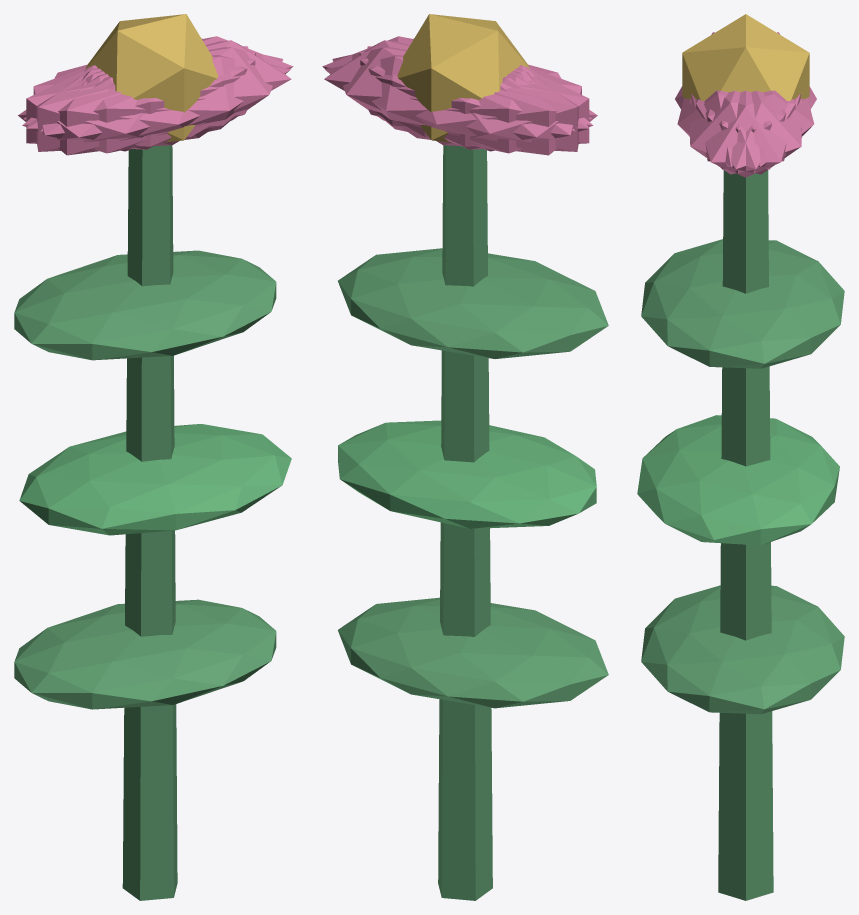
Rendered from odontonema-tubaeforme.glb.
3 views of the same model, side by side, from view 1: azimuth 30°, elevation 25°; view 2: azimuth 150°, elevation 25°; view 3: azimuth 270°, elevation 25° (orthographic).
Parts seen in each view (by area): view 1: stem, leaf1, leaf2, leaf0, center, petal1, petal6, petal2, petal5, petal7, petal0, petal4 (+2 smaller); view 2: stem, leaf2, leaf0, leaf1, center, petal8, petal3, petal7, petal4, petal2, petal0, petal5 (+2 smaller); view 3: stem, leaf2, leaf1, leaf0, center, petal0, petal4, petal5, petal1, petal8.
Boxes of the visible parts, x1=… form: stem: x1=122, y1=145, x2=177, y2=900; leaf1: x1=19, y1=424, x2=291, y2=535; leaf2: x1=14, y1=250, x2=276, y2=360; leaf0: x1=14, y1=599, x2=276, y2=709; center: x1=85, y1=14, x2=217, y2=142; petal1: x1=22, y1=55, x2=290, y2=153; petal6: x1=18, y1=66, x2=212, y2=155; petal2: x1=36, y1=46, x2=248, y2=151; petal5: x1=40, y1=47, x2=283, y2=146; petal7: x1=26, y1=52, x2=255, y2=149; petal0: x1=85, y1=40, x2=291, y2=137; petal4: x1=23, y1=36, x2=293, y2=128; stem: x1=438, y1=145, x2=492, y2=900; leaf2: x1=338, y1=248, x2=608, y2=358; leaf0: x1=338, y1=597, x2=608, y2=708; leaf1: x1=338, y1=420, x2=596, y2=528; center: x1=397, y1=14, x2=529, y2=142; petal8: x1=325, y1=55, x2=593, y2=153; petal3: x1=403, y1=66, x2=597, y2=155; petal7: x1=367, y1=46, x2=578, y2=151; petal4: x1=332, y1=47, x2=575, y2=146; petal2: x1=359, y1=52, x2=589, y2=149; petal0: x1=324, y1=40, x2=530, y2=137; petal5: x1=322, y1=36, x2=591, y2=128; stem: x1=718, y1=170, x2=773, y2=900; leaf2: x1=641, y1=239, x2=844, y2=368; leaf1: x1=637, y1=415, x2=839, y2=545; leaf0: x1=641, y1=585, x2=844, y2=714; center: x1=682, y1=14, x2=809, y2=100; petal0: x1=691, y1=91, x2=800, y2=177; petal4: x1=696, y1=90, x2=802, y2=174; petal5: x1=689, y1=91, x2=795, y2=174; petal1: x1=677, y1=90, x2=786, y2=166; petal8: x1=705, y1=90, x2=814, y2=166.
Size of the model in its own units: 0.1479 by 0.455 by 0.0997.
